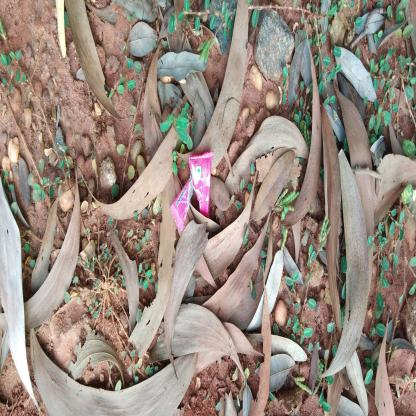trash: (167, 146, 219, 241)
